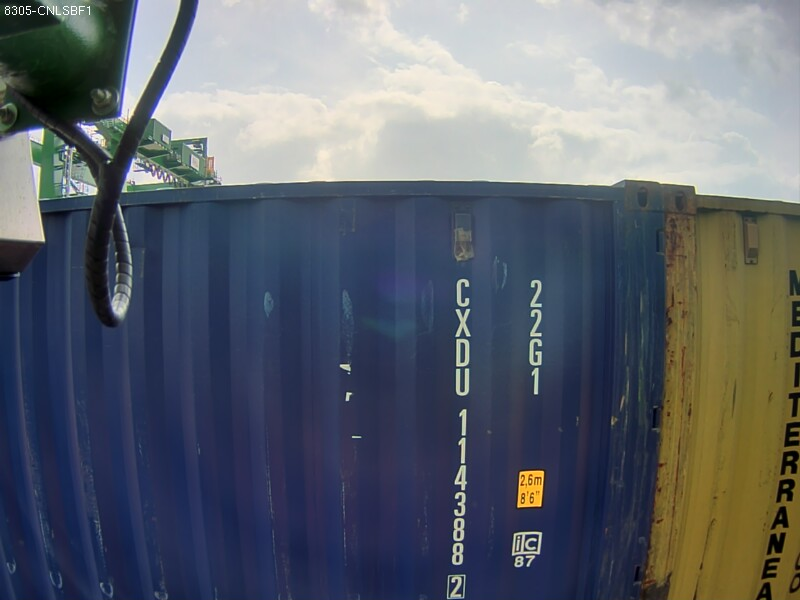container_no_door: (249, 174, 668, 600)
